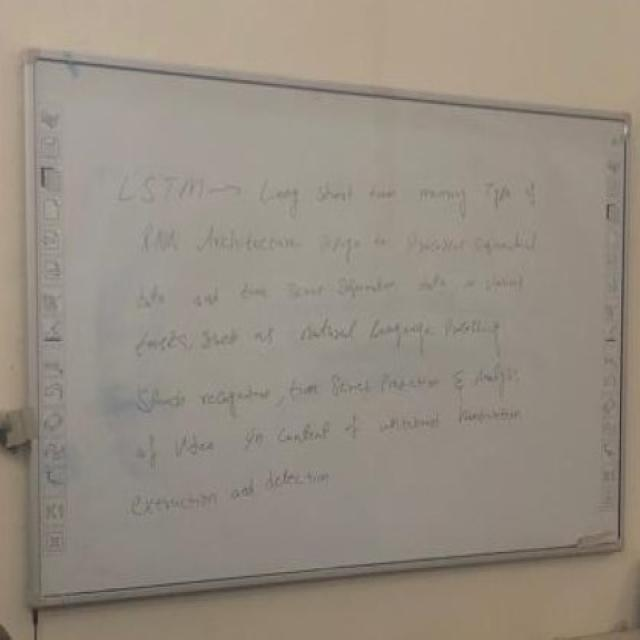White-board: (34, 44, 633, 603)
